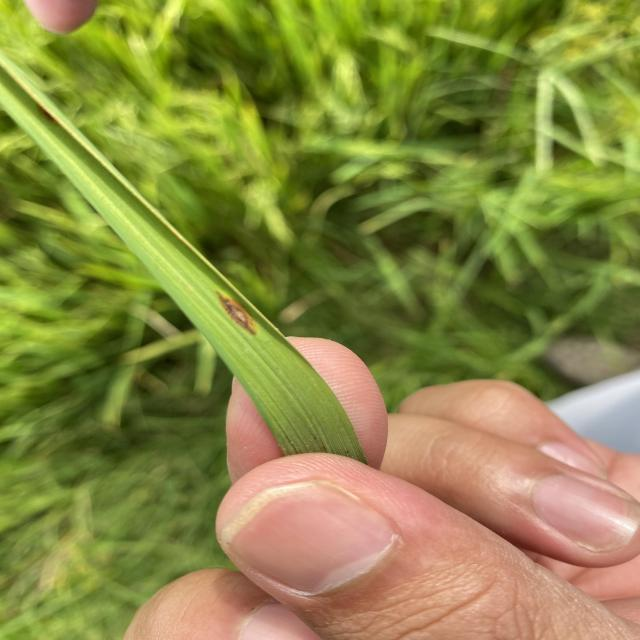Dom nau: (217, 291, 256, 340)
